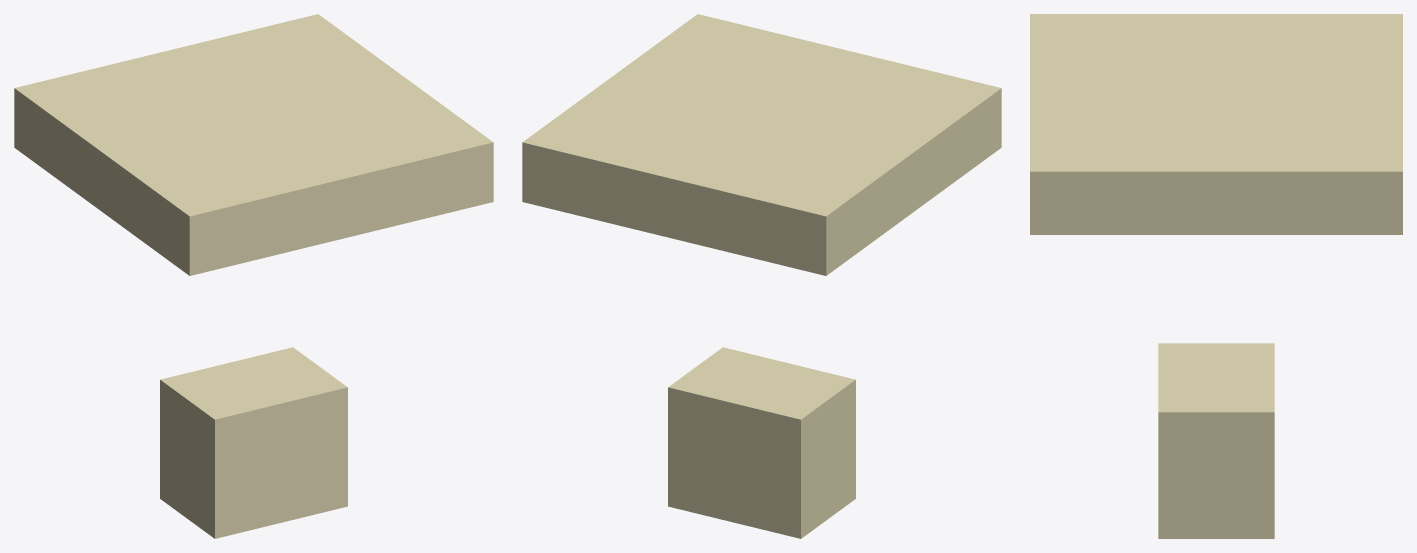
Rendered from ring_legacy.glb.
3 renders of one model, left to right at view 1: azimuth 30°, elevation 25°; view 2: azimuth 150°, elevation 25°; view 3: azimuth 270°, elevation 25°, orthographic. The views are drawn at different scales.
Parts seen in each view (by area): view 1: ring_band, ring_stone; view 2: ring_band, ring_stone; view 3: ring_band, ring_stone.
Boxes of the visible parts, x1,y1,x2,y2 form: ring_band: (14,14,493,275); ring_stone: (160,347,347,538); ring_band: (522,14,1001,275); ring_stone: (668,347,855,538); ring_band: (1030,14,1402,234); ring_stone: (1158,343,1274,538).
Size of the model in its own units: 0.32 by 0.39 by 0.32.
